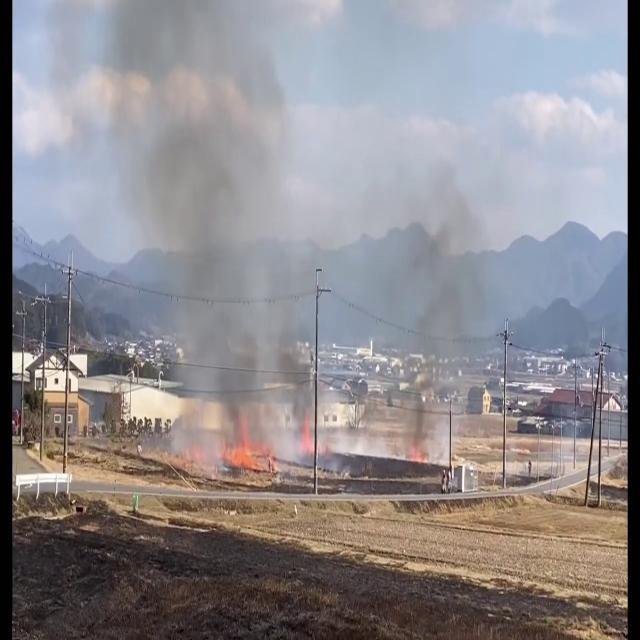Fire: (222, 436, 282, 476)
Smoke: (114, 0, 310, 464), (378, 193, 503, 457)
